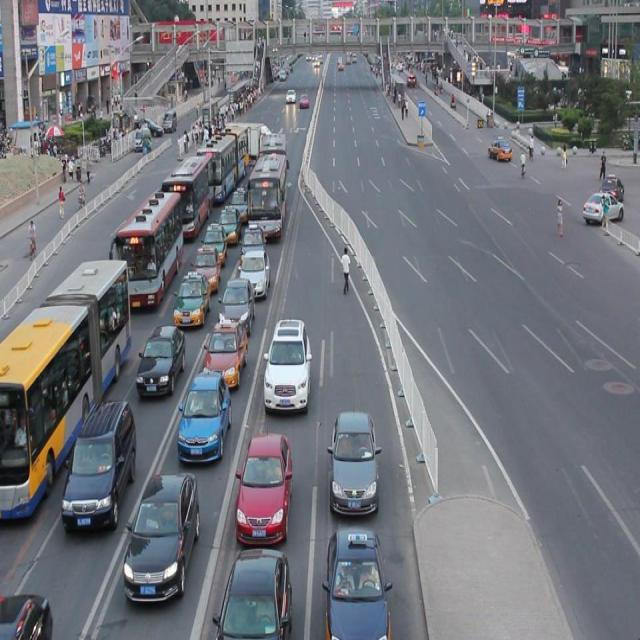bus: (223, 121, 272, 162)
car: (123, 470, 200, 601), (61, 398, 136, 529), (321, 527, 392, 640), (213, 548, 291, 640), (235, 432, 293, 546), (327, 411, 379, 515), (178, 371, 232, 460), (262, 318, 310, 412), (136, 323, 184, 395), (203, 316, 248, 388), (0, 592, 54, 640), (174, 271, 211, 328), (218, 278, 255, 332), (237, 250, 271, 298), (579, 190, 623, 222), (190, 246, 221, 290), (200, 220, 227, 262), (240, 224, 267, 263), (217, 205, 241, 243), (227, 186, 250, 222), (487, 136, 512, 162)
van: (1, 258, 132, 519), (109, 190, 182, 310), (161, 156, 213, 240), (195, 126, 248, 202), (246, 153, 288, 239), (258, 130, 288, 182)
